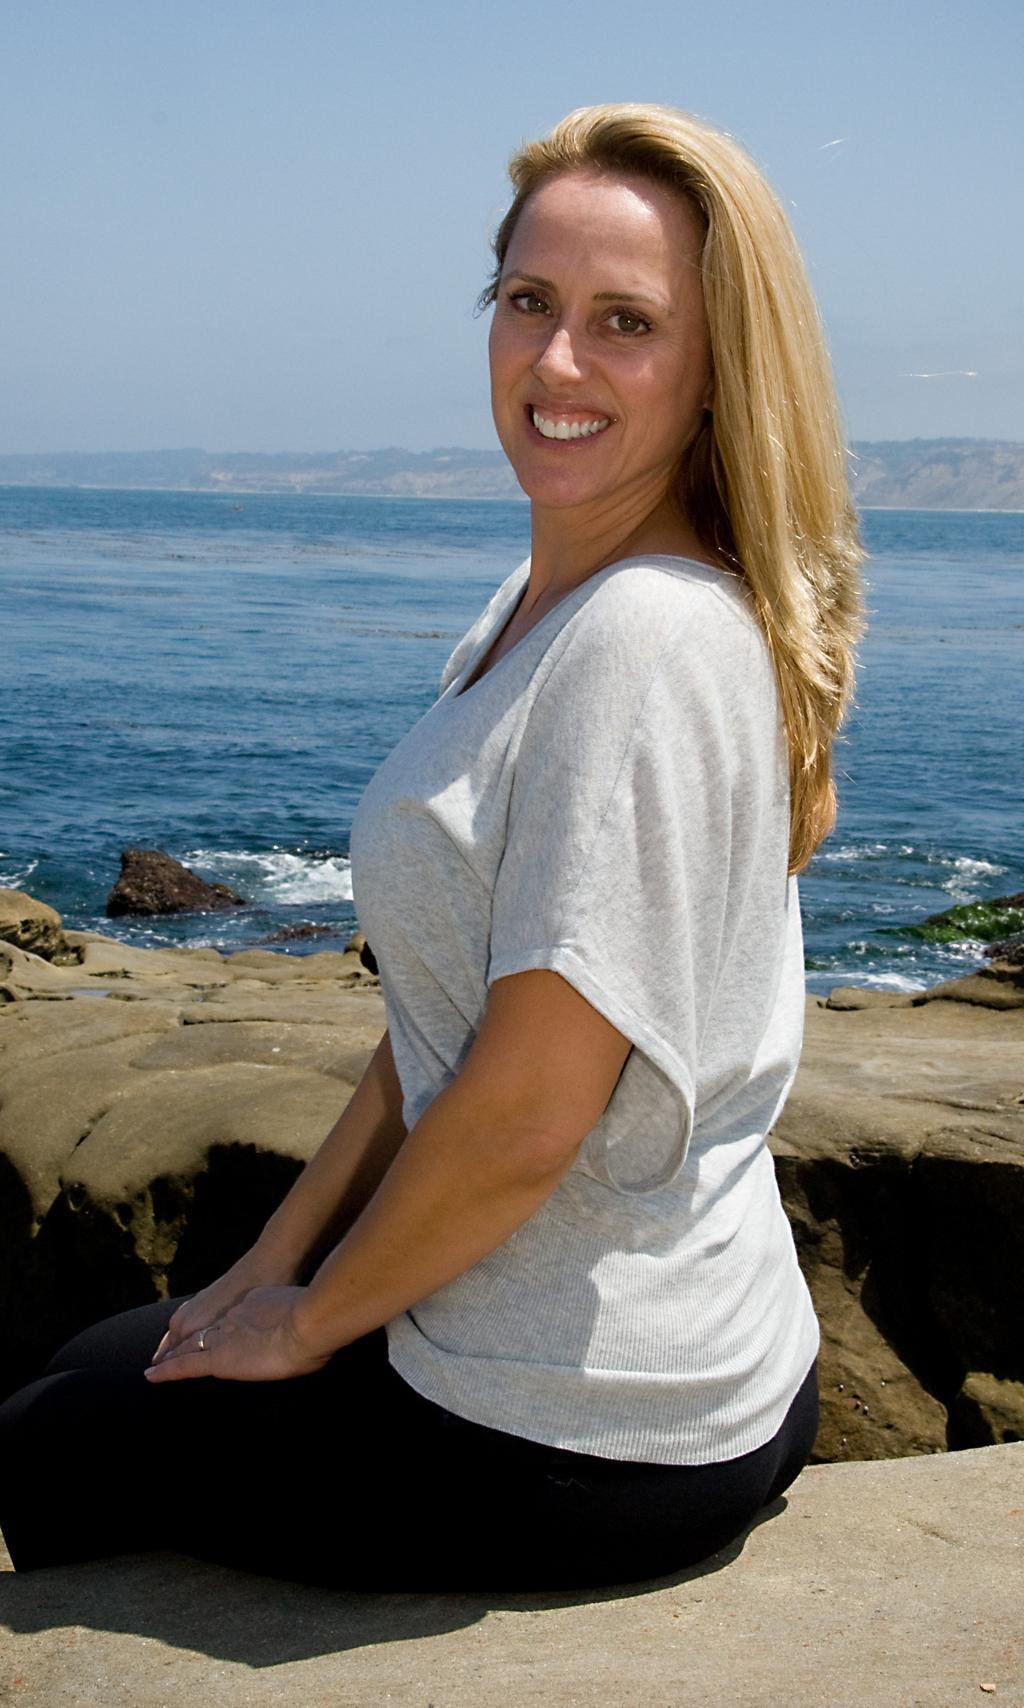face: (491, 188, 704, 498)
